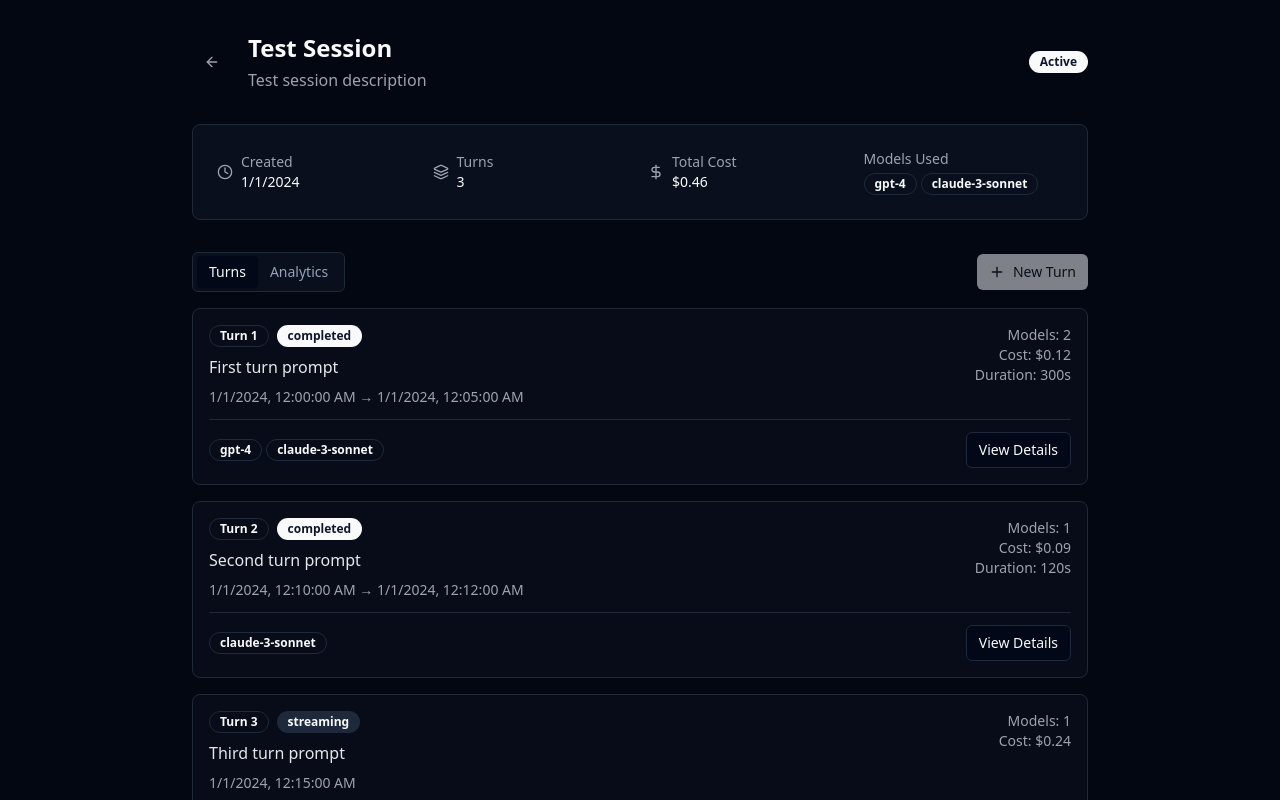
Test: Session Page › Analytics Tab › should switch to analytics tab
Expected: the heading "Test Session" is shown, [248,31,392,64]
Click the tab "Analytics" at (299, 272), box [258,256,340,288]
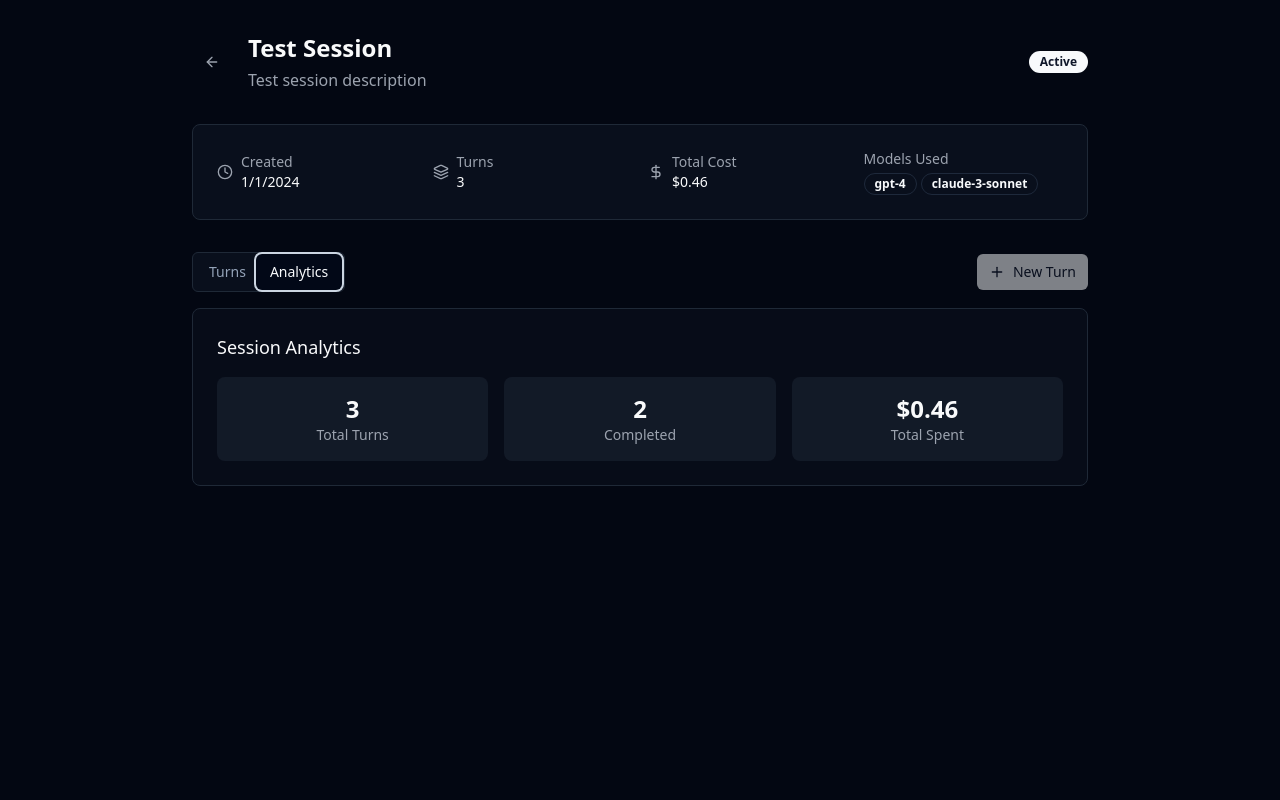
Expected: the heading "Session Analytics" is shown, [217,335,361,359]
